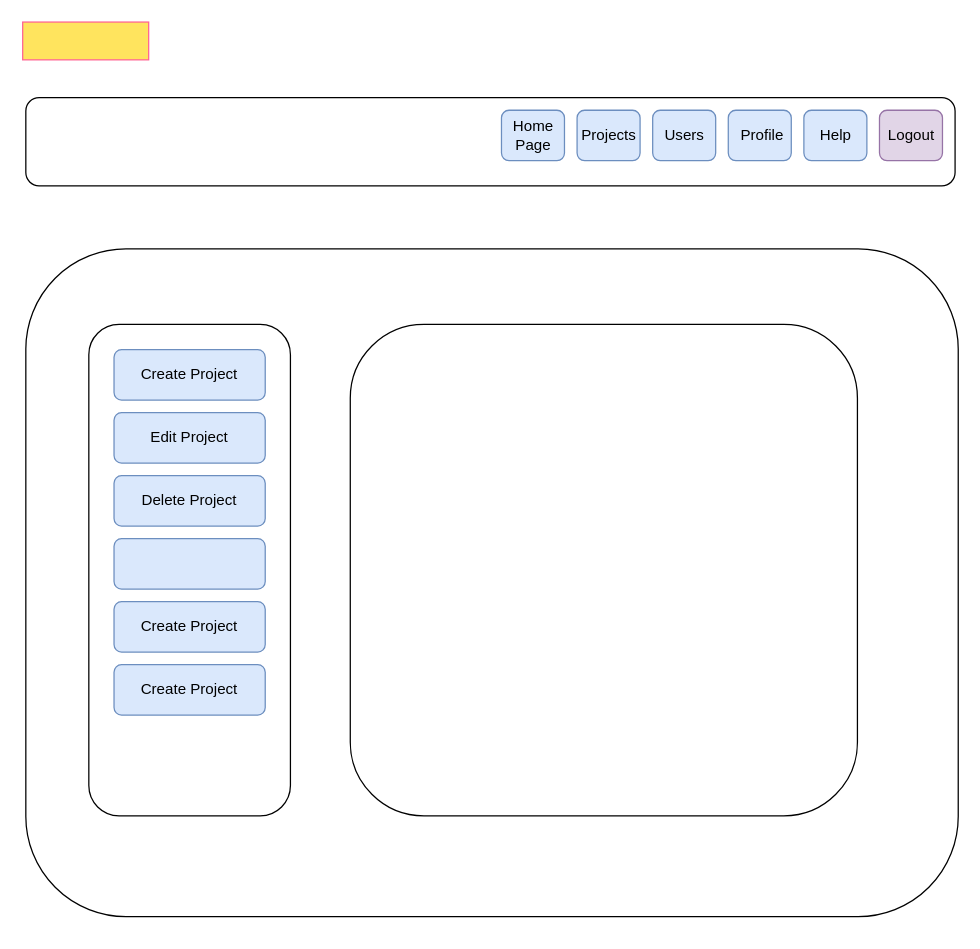
This 980x949 diagram has some shape labels left out. The shapes that lost their labels are listed below. From the top down, each one's centre as x and y in pixels, then its label:
At [85,40]: "Project page".
At [603,569]: "Sprint list".
